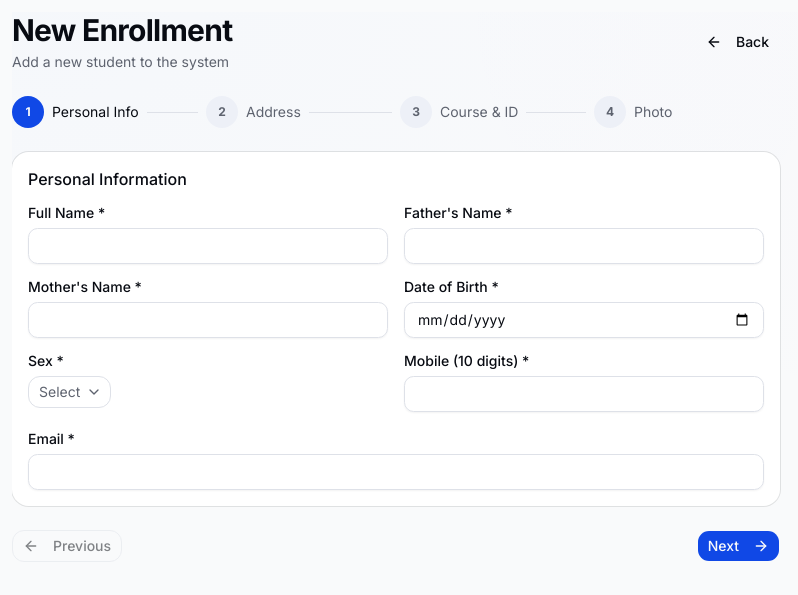
Test: New Enrollment Form › should navigate through the multi-step form and submit
The width and height of the screenshot is (798, 595).
Expected: the text "Personal Information" is shown, [28,169,187,189]
Type "John Doe" into the field labelled "Full Name *" at (208, 246), box [28,228,388,264]
Type "Richard Doe" into the field labelled "Father's Name *" at (584, 246), box [404,228,764,264]
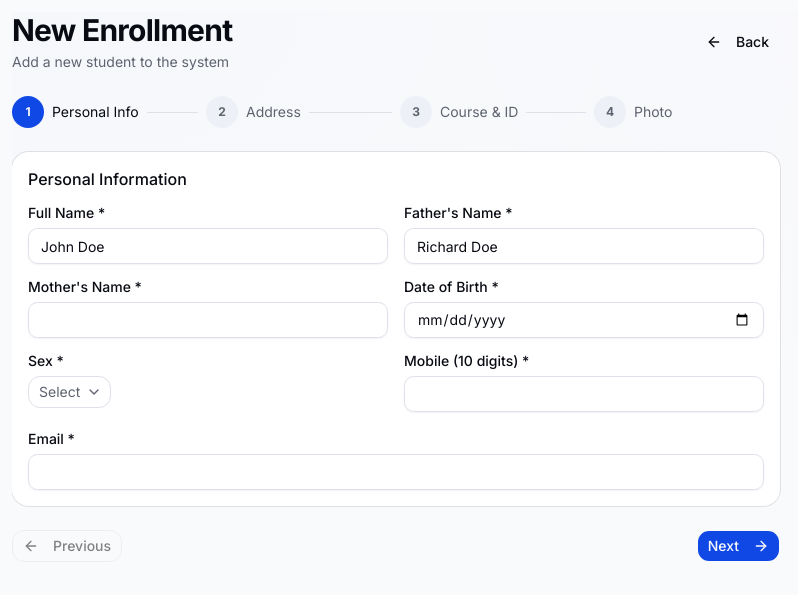
Type "Jane Doe" into the field labelled "Mother's Name *" at (208, 320), box [28,302,388,338]
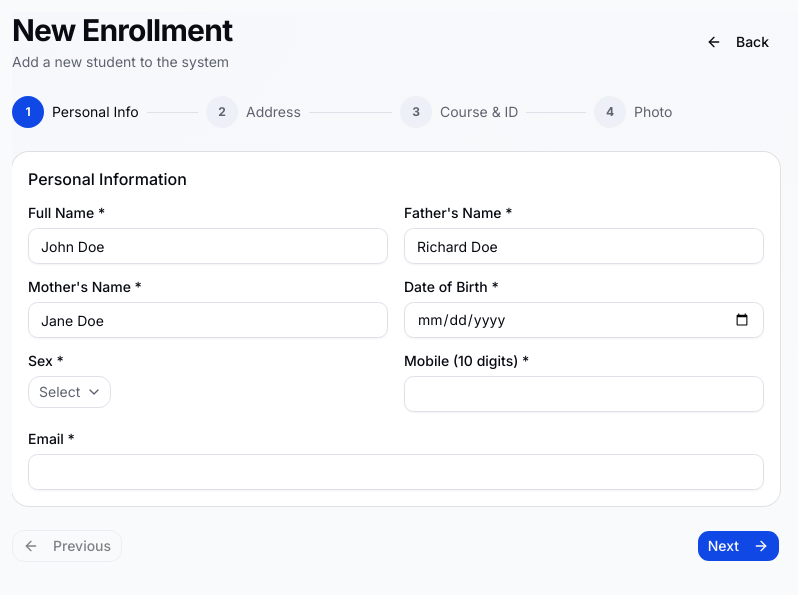
Type "2000-01-01" into the date field labelled "Date of Birth *" at (584, 320), box [404,302,764,338]
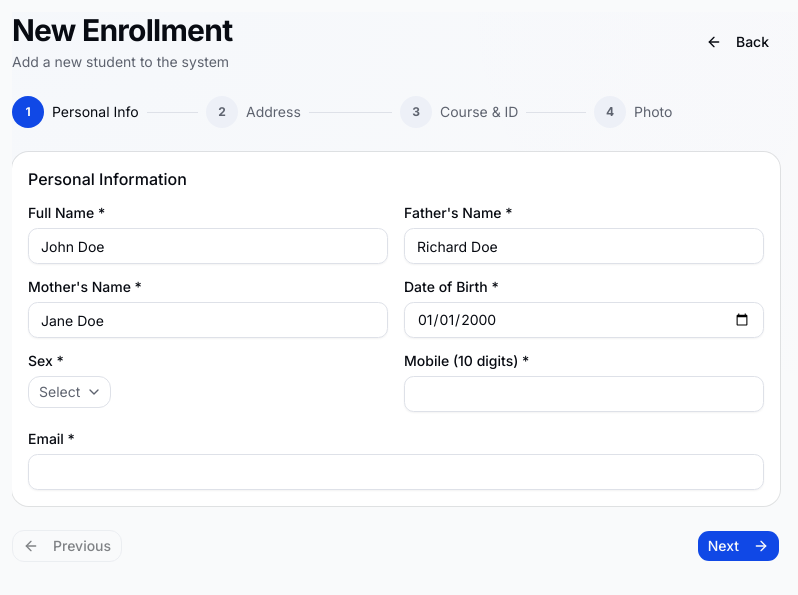
Type "9876543210" into the field labelled "Mobile (10 digits) *" at (584, 394), box [404,376,764,412]
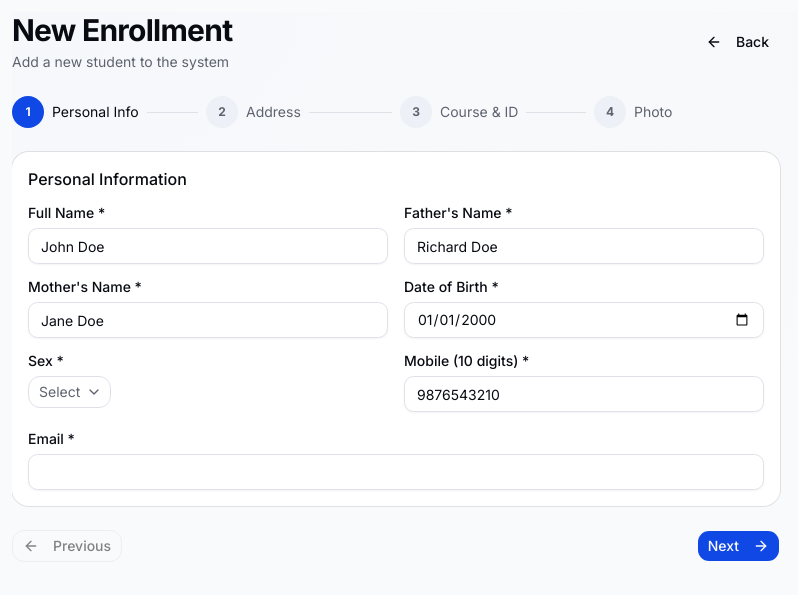
Type "john@example.com" into the field labelled "Email *" at (396, 472), box [28,454,764,490]
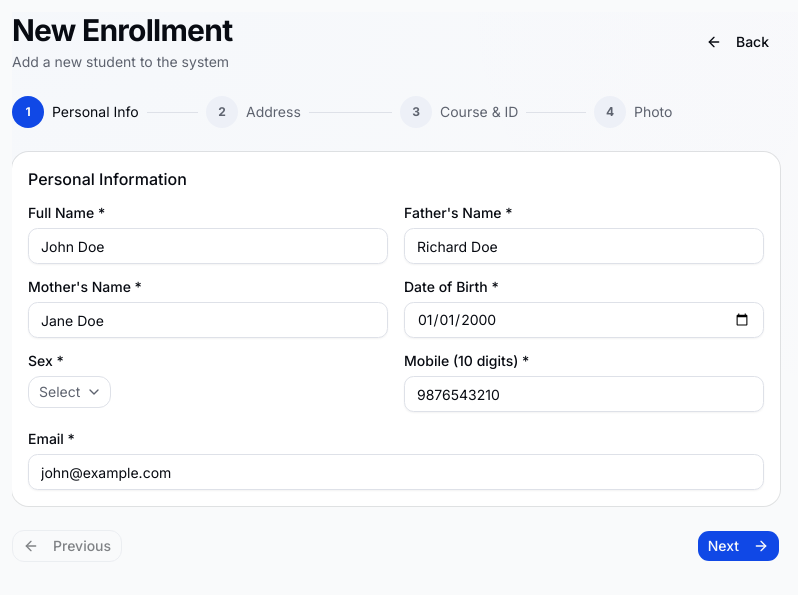
Note: Attempting to go next without Sex should fail validation
Click the button "Next" at (738, 546), box [697,530,780,562]
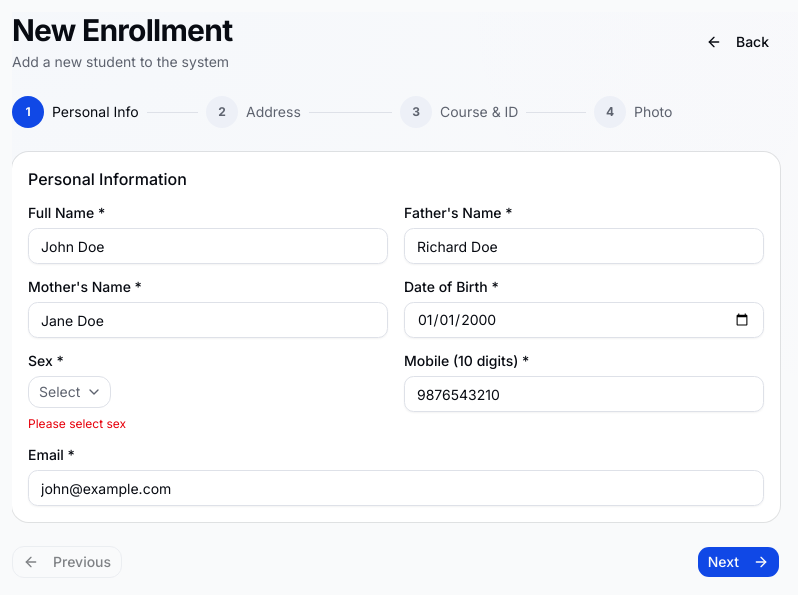
Expected: the text "Please select sex" is shown, [28,416,126,431]
